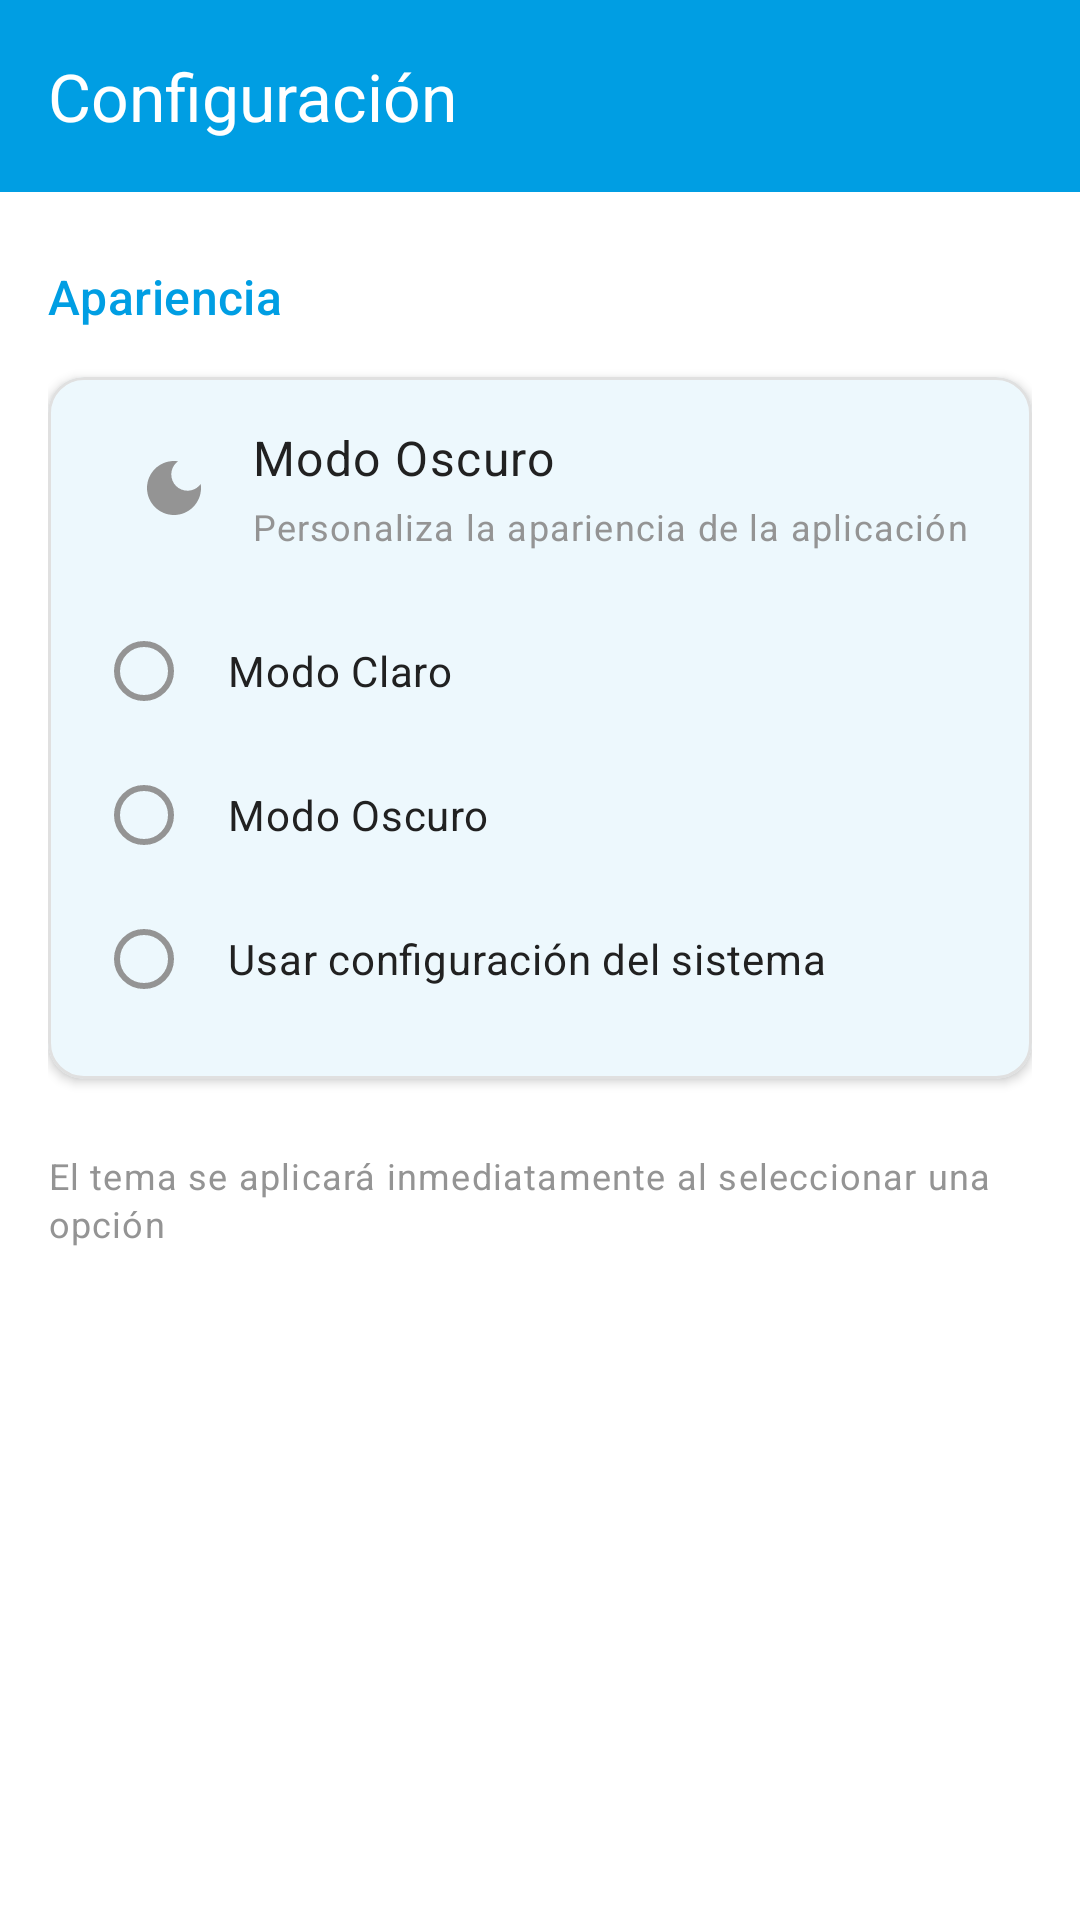

Where icons sit on this 1080px×1920px app screen, as box(x1, y1, x2, y2):
Icono de tema: box(147, 461, 201, 515)
